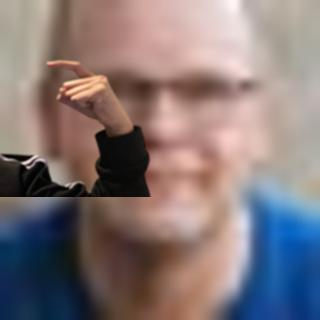WHY: (37, 53, 132, 132)
